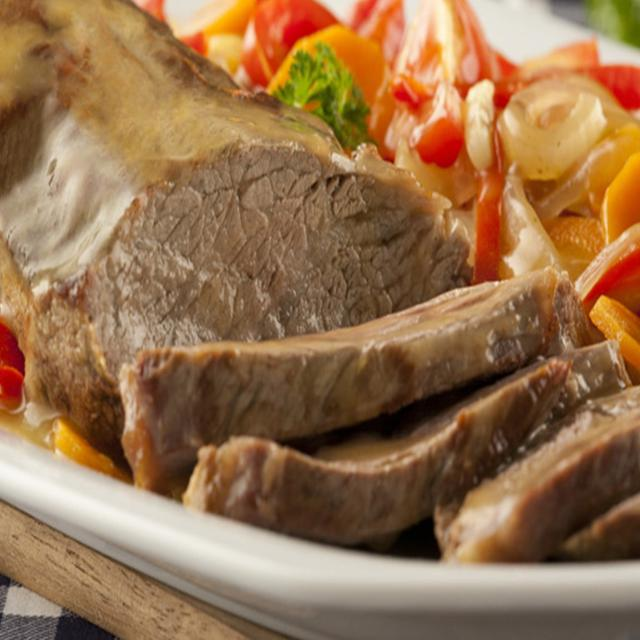carne de cerdo: (110, 328, 639, 560)
